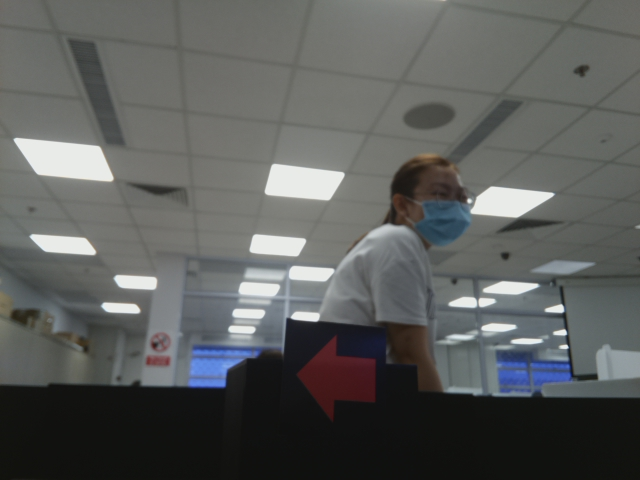left: (292, 330, 381, 432)
